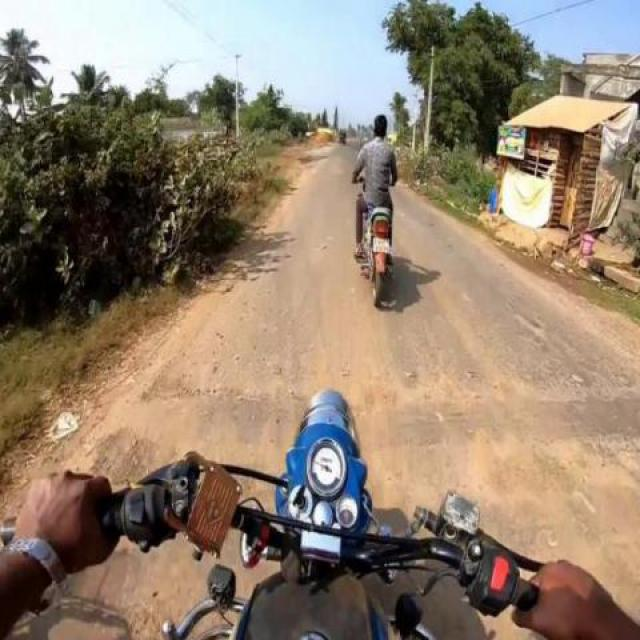Pothole: (485, 479, 595, 537), (78, 547, 146, 613)
Unmarked Bump: (357, 400, 639, 448), (108, 394, 286, 464)
